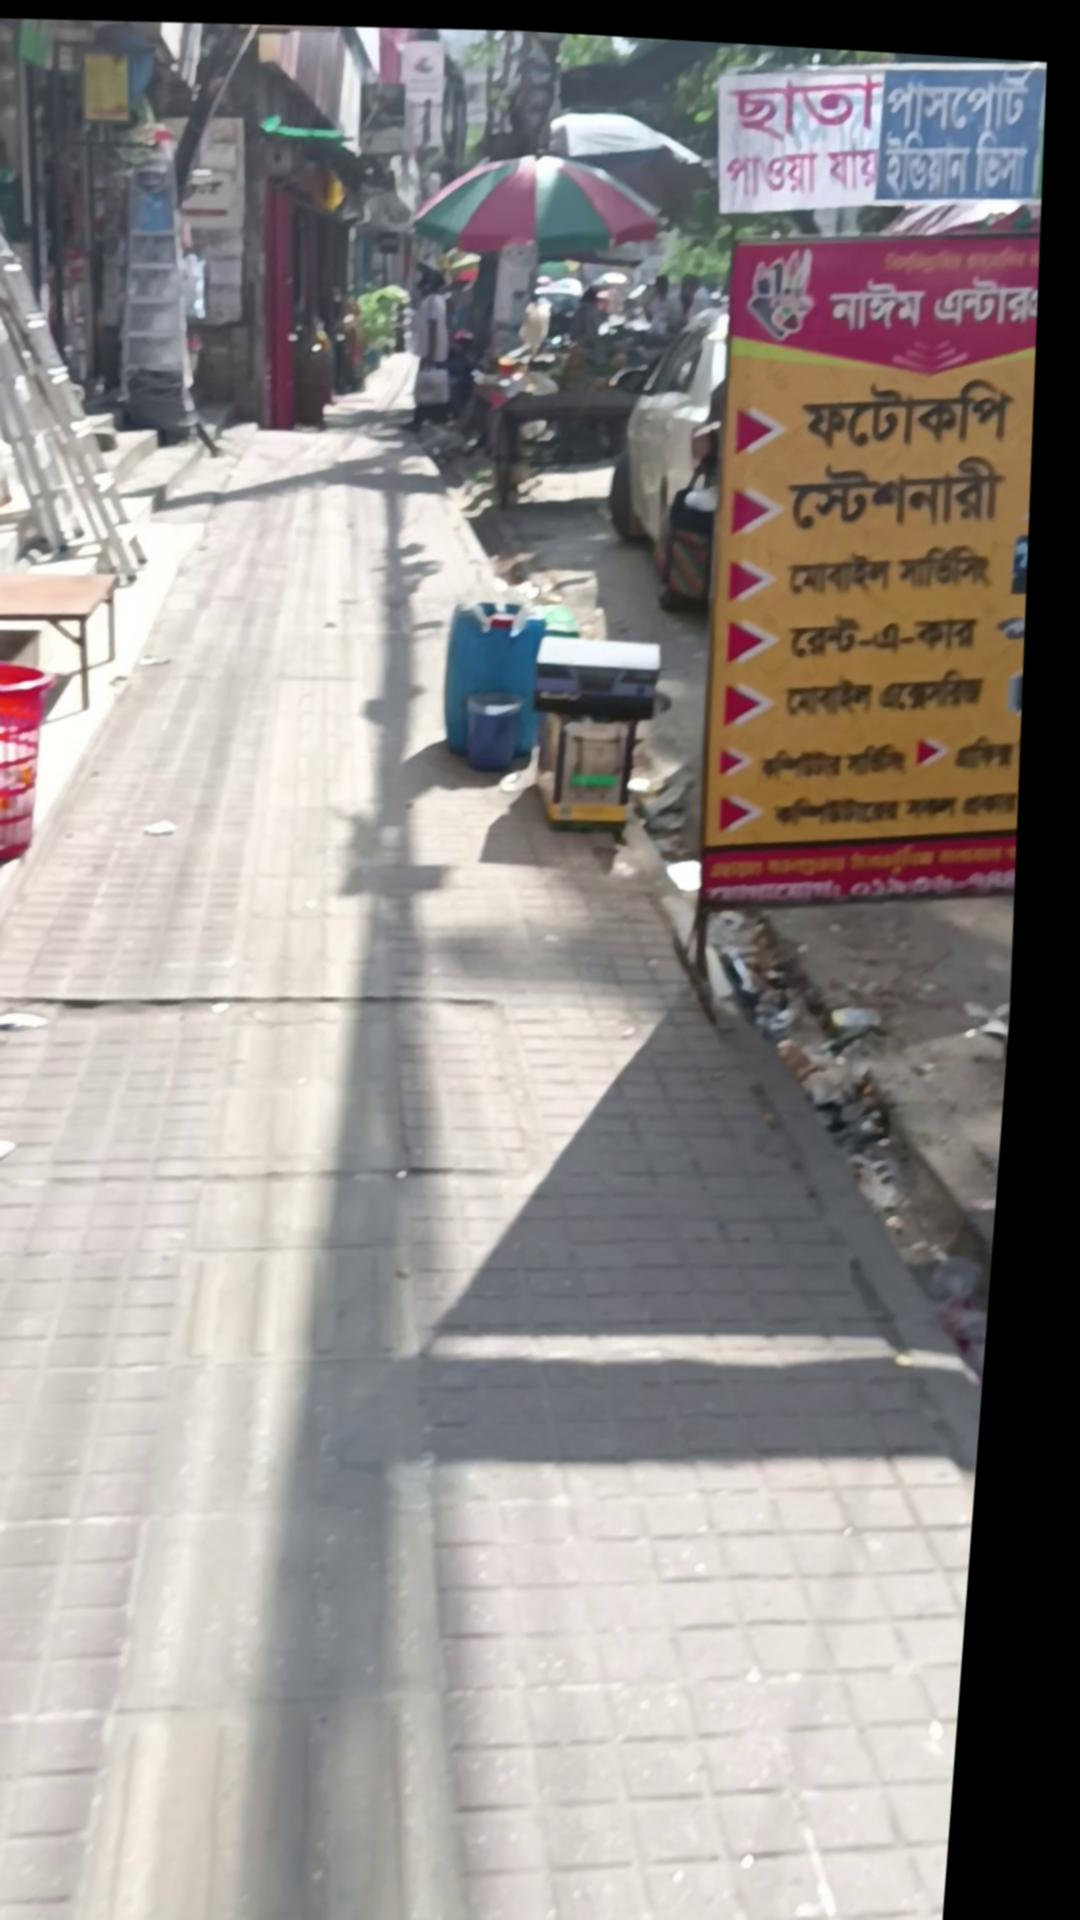Bollard: (601, 289, 745, 607)
Broken-road: (0, 496, 235, 1077)
Cat: (446, 588, 560, 754), (0, 653, 73, 869), (471, 680, 534, 766)
Crosswalk: (531, 622, 679, 831)
Garbage: (0, 306, 1062, 1920)
